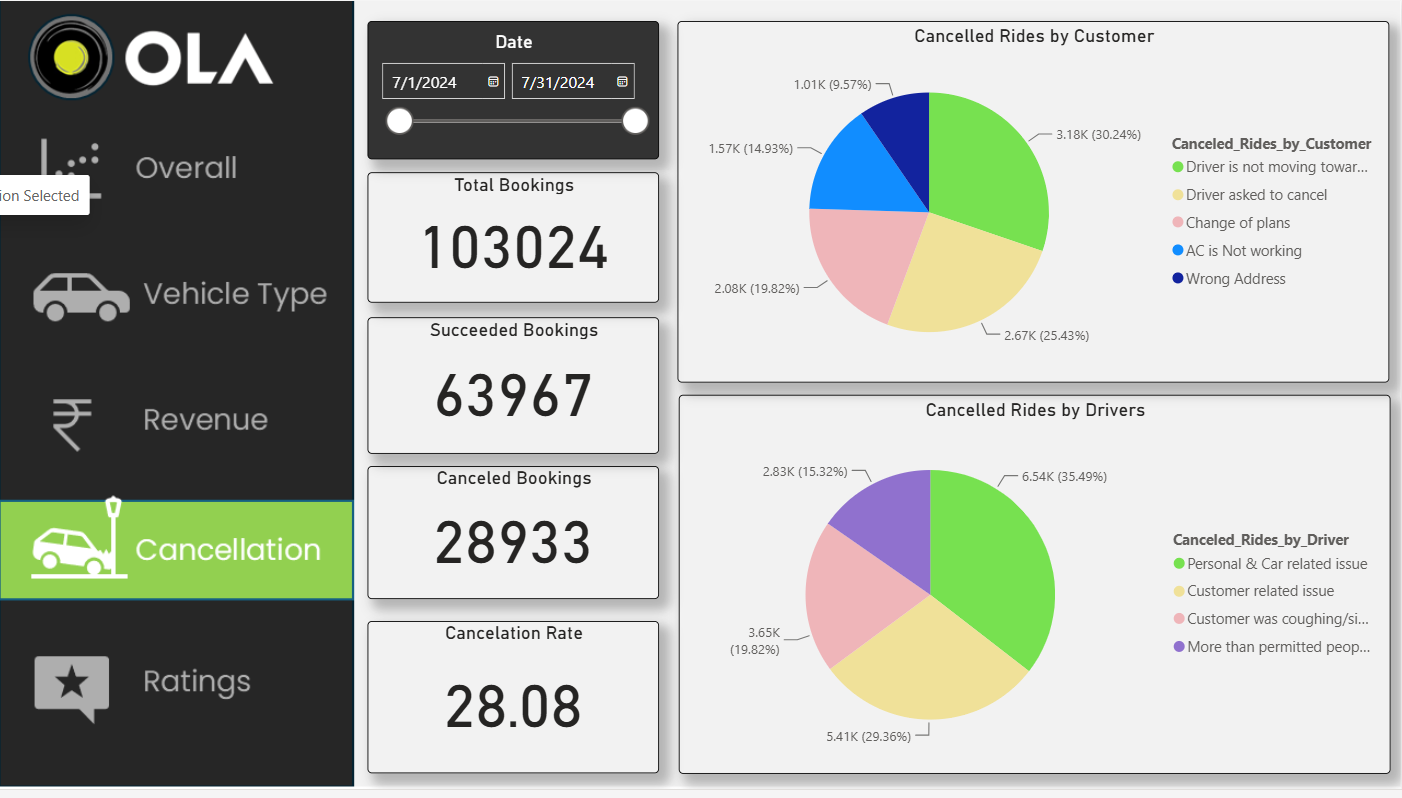

This screenshot's page, from the dashboard's own definition file:
{"tool":"powerbi","page":{"name":"Cancellation","canvas":[1280,720],"ordinal":3},"visuals":[{"type":"actionButton","box":[0,458.9,323.8,87.1],"z":0},{"type":"actionButton","box":[0,224.4,323.8,87.1],"z":1000},{"type":"actionButton","box":[0,338.3,323.8,87.1],"z":2000},{"type":"actionButton","box":[0,582.9,323.8,87.1],"z":3000},{"type":"actionButton","box":[0,223.8,323.8,86.9],"z":4000},{"type":"actionButton","box":[0,113.1,323.8,86.9],"z":5000},{"type":"actionButton","box":[0,336.1,323.8,87.1],"z":6000},{"type":"actionButton","box":[0,582.1,323.8,88.1],"z":7000},{"type":"actionButton","box":[0,112.7,324.8,86.3],"z":8000},{"type":"pieChart","title":"Cancelled Rides by Customer","fields":{"Category":["July.Canceled_Rides_by_Customer"],"Y":["CountNonNull(July.Canceled_Rides_by_Customer)"]},"box":[618.8,18.8,650.7,330.4],"z":9000},{"type":"pieChart","title":"Cancelled Rides by Drivers","fields":{"Category":["July.Canceled_Rides_by_Driver"],"Y":["CountNonNull(July.Canceled_Rides_by_Driver)"]},"box":[620.3,359.4,650.7,346.4],"z":10000},{"type":"slicer","title":"Date","fields":{"Values":["July.Date"]},"box":[336.2,18.8,266.7,126.1],"z":11000},{"type":"card","title":"Total Bookings","fields":{"Values":["CountNonNull(July.Booking_ID)"]},"box":[336.2,156.5,266.7,118.8],"z":12000},{"type":"card","title":"Succeeded Bookings","fields":{"Values":["CountNonNull(July.Booking_ID)"]},"box":[336.2,288.4,266.7,124.6],"z":13000},{"type":"card","title":"Canceled Bookings","fields":{"Values":["CountNonNull(July.Booking_ID)"]},"box":[336.2,424.6,266.7,121.7],"z":14000},{"type":"card","title":"Cancelation Rate","fields":{"Values":["July.CancelPercentage"]},"box":[336.2,566.7,266.7,139.1],"z":15000}]}

Visuals, with their boxes in screenshot pixels (x1, y1, x2, y2), scaled from the page's 1280x720 canvas onto the 1402x798 screenshot:
actionButton: Rect(0, 509, 355, 605)
actionButton: Rect(0, 249, 355, 345)
actionButton: Rect(0, 375, 355, 471)
actionButton: Rect(0, 646, 355, 743)
actionButton: Rect(0, 248, 355, 344)
actionButton: Rect(0, 125, 355, 222)
actionButton: Rect(0, 373, 355, 469)
actionButton: Rect(0, 645, 355, 743)
actionButton: Rect(0, 125, 356, 221)
"Cancelled Rides by Customer" pieChart: Rect(678, 21, 1390, 387)
"Cancelled Rides by Drivers" pieChart: Rect(679, 398, 1392, 782)
"Date" slicer: Rect(368, 21, 660, 161)
"Total Bookings" card: Rect(368, 173, 660, 305)
"Succeeded Bookings" card: Rect(368, 320, 660, 458)
"Canceled Bookings" card: Rect(368, 471, 660, 605)
"Cancelation Rate" card: Rect(368, 628, 660, 782)
